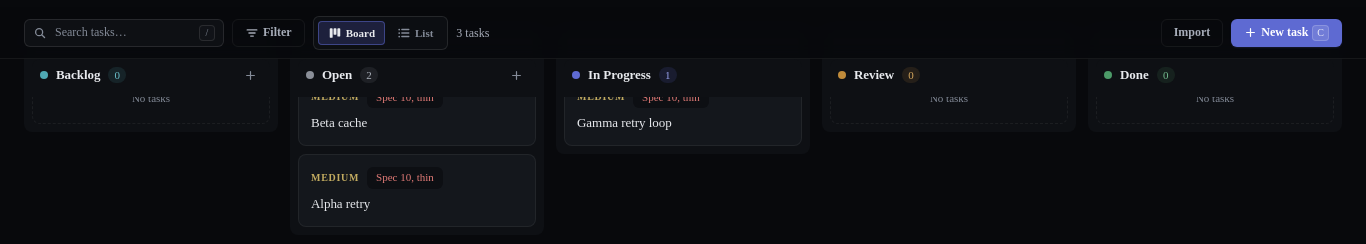
it: board toolbar below the hub band › shows 'shown / total' while a filter is active and the plain count again after clearing it
The image size is (1366, 244).
Expected: the button "New task C" is enabled, x1=1231 y1=18 x2=1342 y2=46
Type "retry" into the search field labelled "Search tasks" at [123, 32], box x1=55 y1=25 x2=191 y2=40
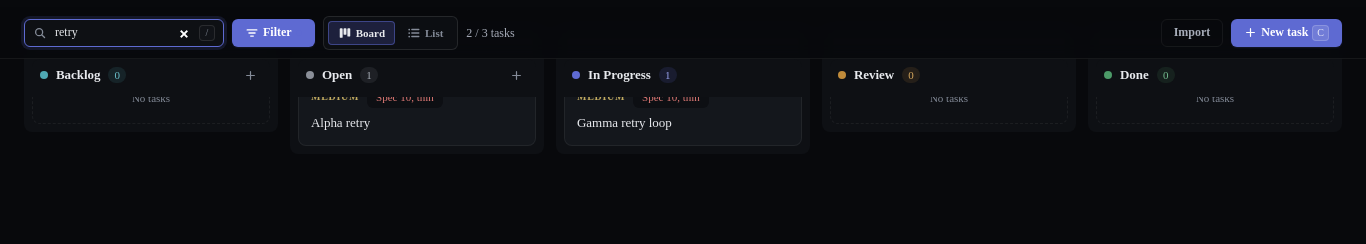
Expected: the text "2 / 3 tasks" is shown, x1=466 y1=24 x2=515 y2=42
Clear the search field named "Search tasks" at [123, 32], box x1=55 y1=25 x2=191 y2=40
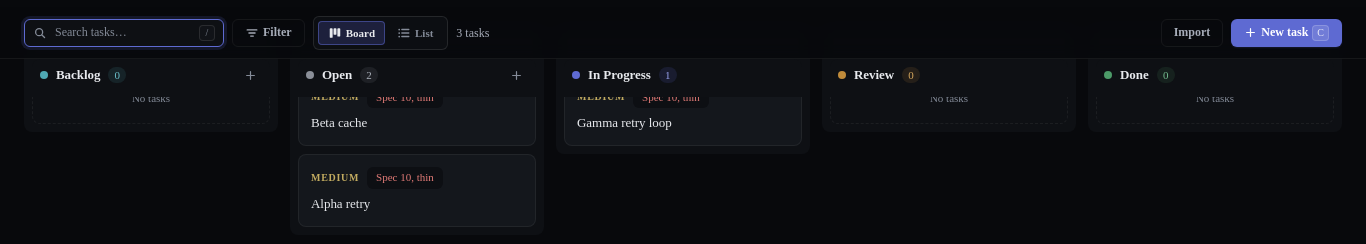
Expected: the text "3 tasks" is shown, x1=456 y1=24 x2=489 y2=42
Expected: the text "2 / 3 tasks" is gone
